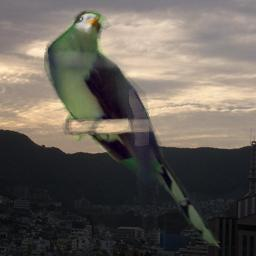Cuckoo: (44, 10, 230, 250)
